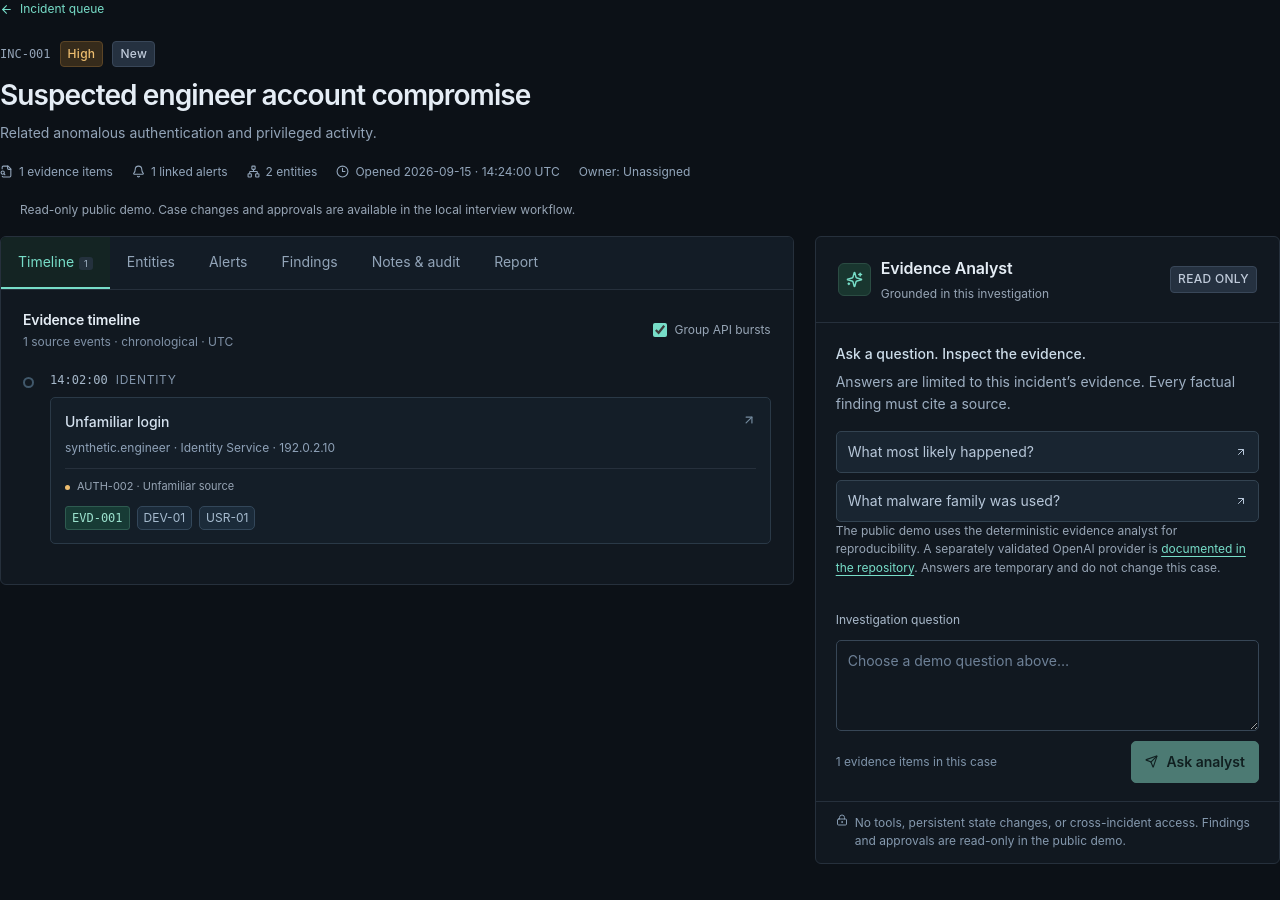
Test: keeps public evidence navigation while hiding incident and evidence mutation controls
Click the button with aria-label "Inspect evidence EVD-001".
click(97, 518)  # box [65,506,130,530]
(page scrolled)
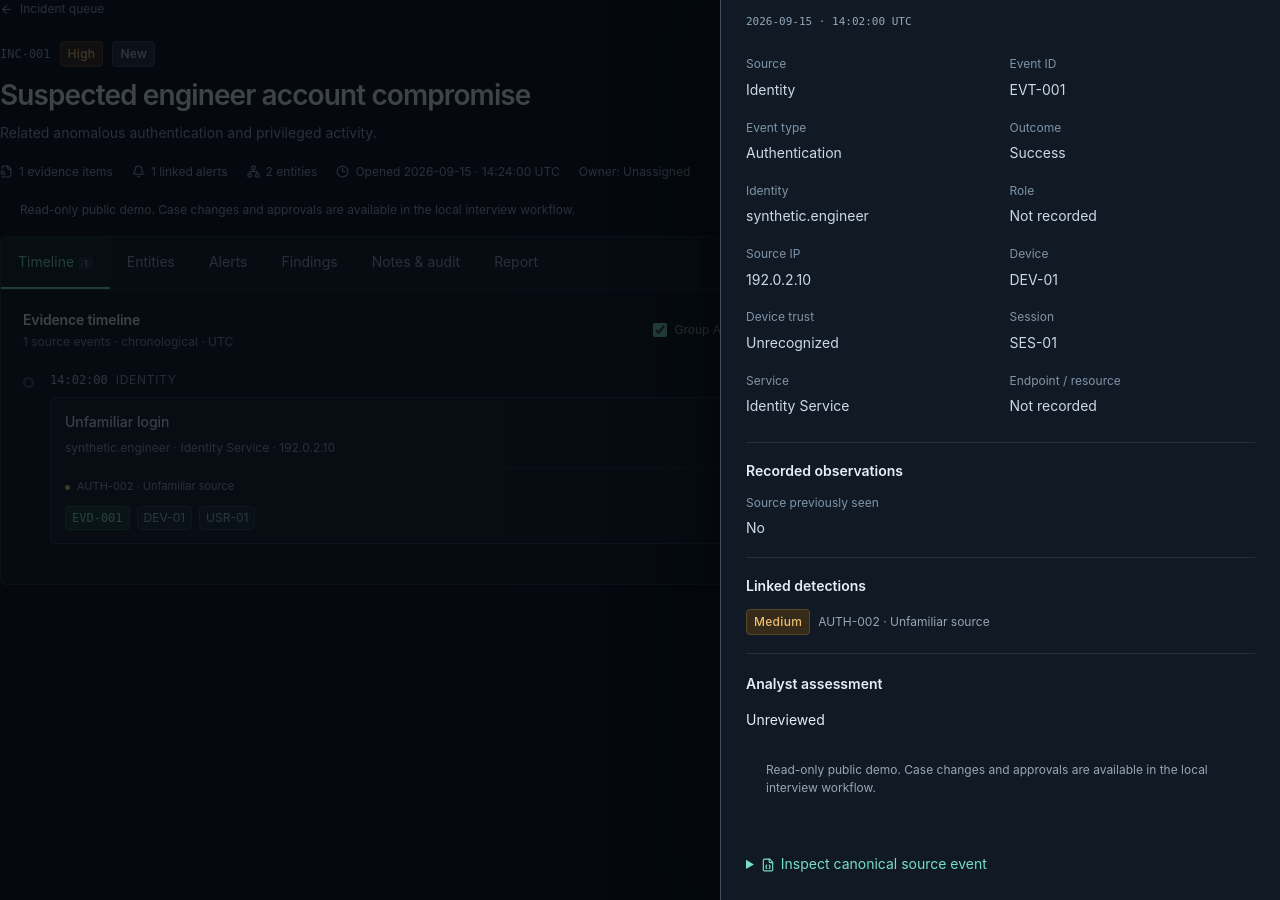
Now the text "synthetic.engineer" is shown, box [746,208,869,224]
Now the heading "Inspect canonical source event" is shown, box [761,855,987,872]
